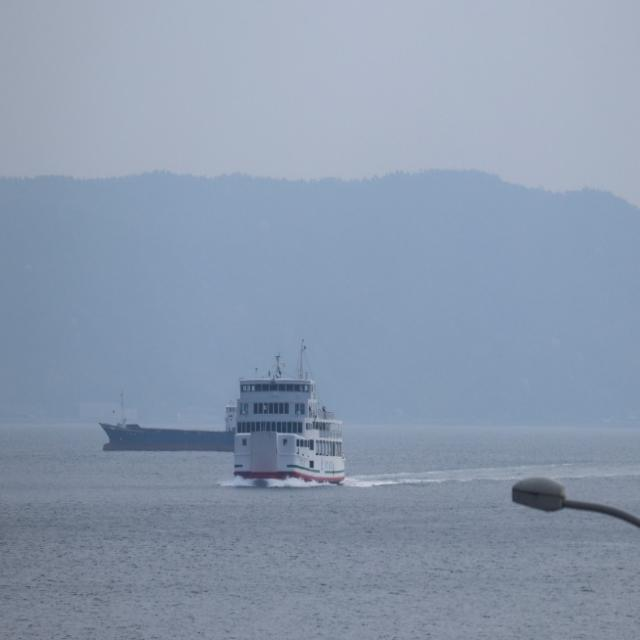cargoship: (88, 382, 252, 453)
passenger ship: (230, 350, 378, 511)
